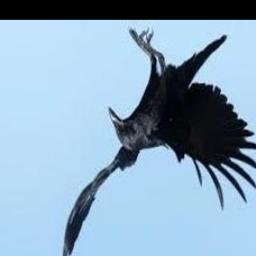Crow: (62, 26, 256, 256)
